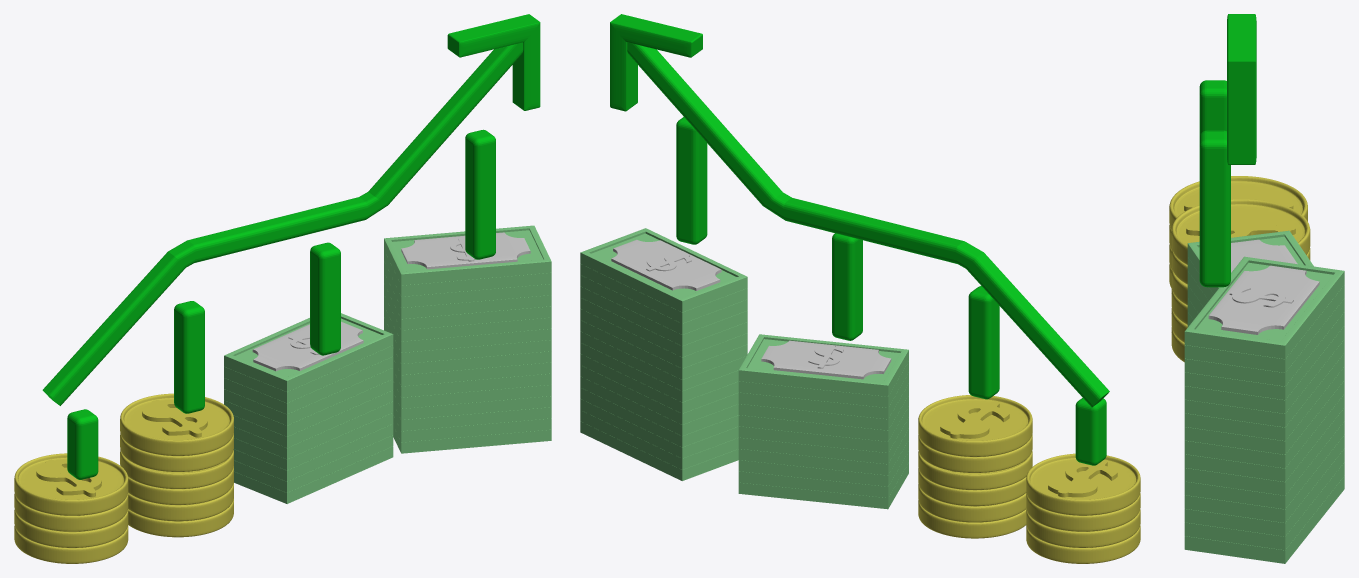
The model's file is business-v2.glb.
3 renders of one model, left to right at view 1: azimuth 30°, elevation 25°; view 2: azimuth 150°, elevation 25°; view 3: azimuth 270°, elevation 25°, orthographic. The views are drawn at different scales.
Visible parts, largest first — view 1: Cube.001_Cube.010, Circle.001, Cube.004_Cube.005, Cube_Cube.001, Cube.002_Cube.011; view 2: Cube.001_Cube.010, Cube.004_Cube.005, Circle.001, Cube_Cube.001, Cube.002_Cube.011; view 3: Cube.001_Cube.010, Circle.001, Cube.002_Cube.011, Cube_Cube.001, Cube.004_Cube.005.
Boxes of the visible parts, x1,y1,x2,y2 form: Cube.001_Cube.010: [384, 225, 551, 453]; Circle.001: [14, 393, 233, 563]; Cube.004_Cube.005: [224, 313, 393, 503]; Cube_Cube.001: [42, 14, 540, 405]; Cube.002_Cube.011: [67, 129, 495, 479]; Cube.001_Cube.010: [580, 228, 747, 480]; Cube.004_Cube.005: [738, 334, 908, 509]; Circle.001: [918, 395, 1140, 563]; Cube_Cube.001: [610, 14, 1109, 407]; Cube.002_Cube.011: [676, 117, 1106, 465]; Cube.001_Cube.010: [1184, 256, 1344, 563]; Circle.001: [1169, 176, 1310, 362]; Cube.002_Cube.011: [1199, 80, 1230, 287]; Cube_Cube.001: [1227, 14, 1256, 164]; Cube.004_Cube.005: [1187, 230, 1313, 327].
Bounding box in the file's own units: 7.79 × 5.72 × 1.83.
